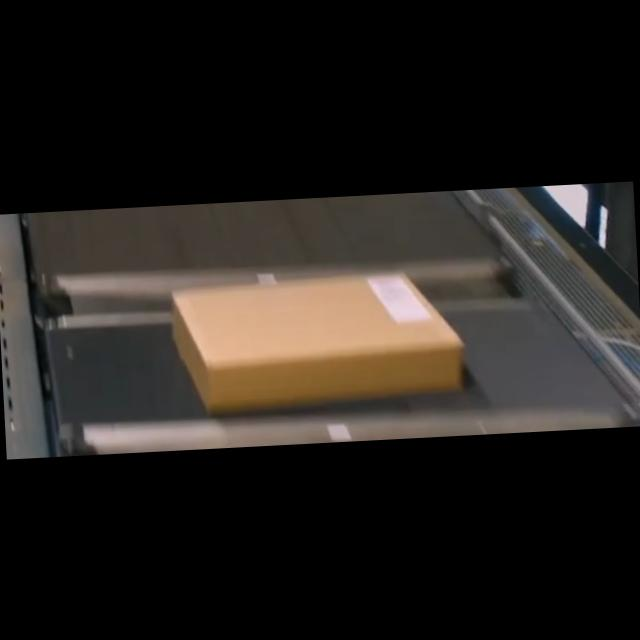box: (166, 266, 464, 415)
